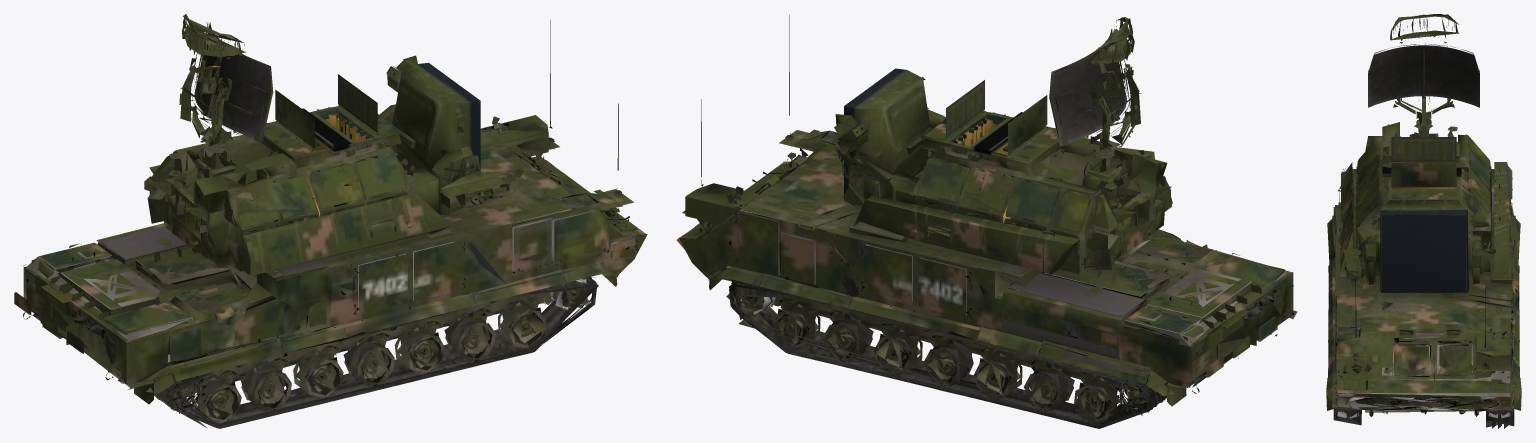
3 renders of one model, left to right at view 1: azimuth 30°, elevation 25°; view 2: azimuth 150°, elevation 25°; view 3: azimuth 270°, elevation 25°, orthographic. The views are drawn at different scales.
Parts seen in each view (by area): view 1: g_hq17_hull, g_hq17_turret; view 2: g_hq17_hull, g_hq17_turret; view 3: g_hq17_turret, g_hq17_hull.
Boxes of the visible parts, x1,y1,x2,y2 form: g_hq17_hull: [14, 20, 647, 428]; g_hq17_turret: [144, 14, 523, 275]; g_hq17_hull: [676, 14, 1297, 428]; g_hq17_turret: [834, 17, 1172, 275]; g_hq17_turret: [1338, 14, 1512, 292]; g_hq17_hull: [1326, 163, 1521, 428].
Bounding box in the file's own units: 6.91 × 4.4 × 2.65.
2 materials, 2 textured.
